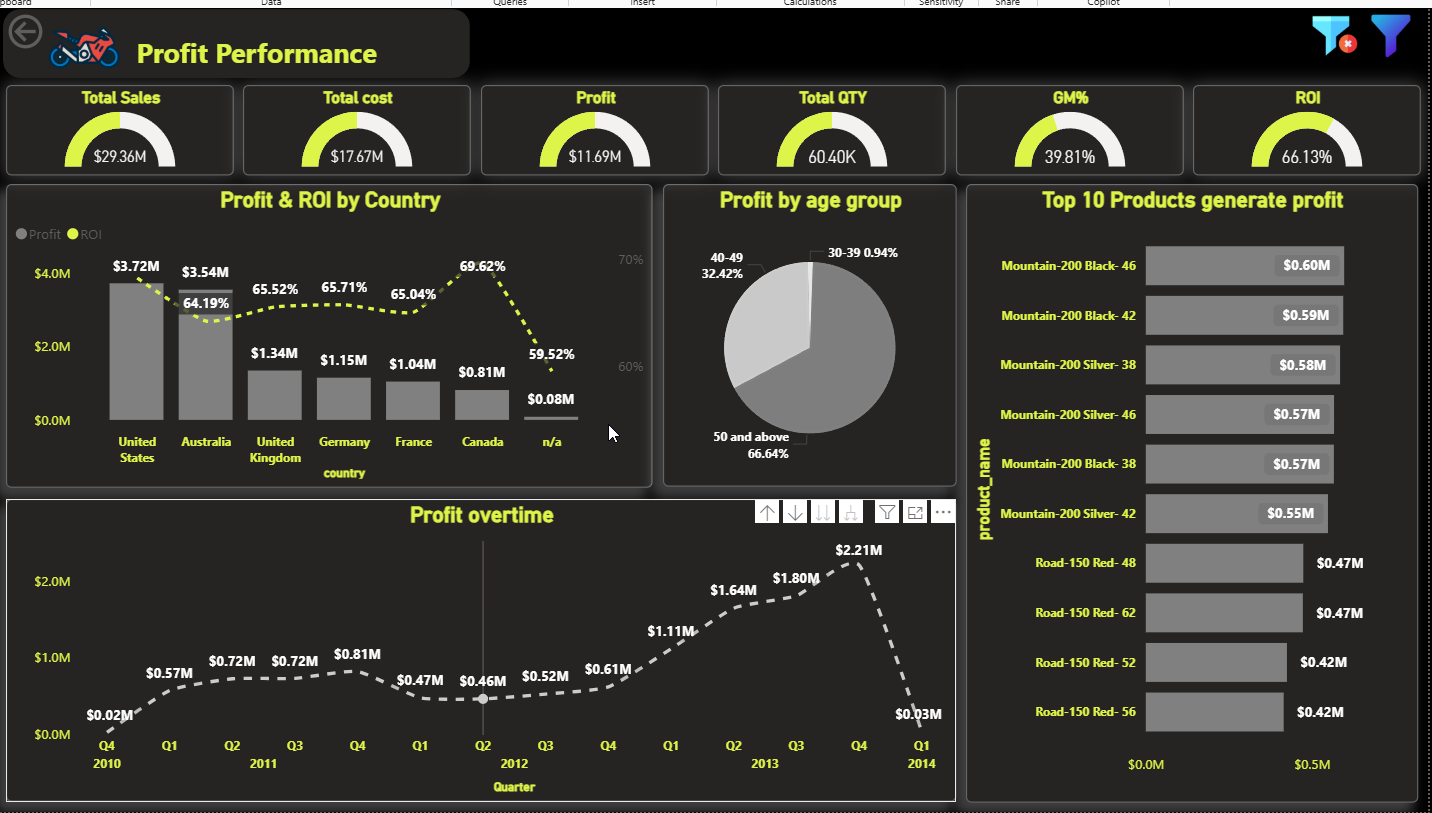

This screenshot's page, from the dashboard's own definition file:
{"tool":"powerbi","page":{"name":"Profit Page","canvas":[1280,720],"ordinal":3},"visuals":[{"type":"clusteredBarChart","title":"Top 10 Products generate profit","fields":{"Category":["gold report_products.product_name"],"Y":["CALC.Profit"]},"box":[867,157.2,404.8,553.7],"z":0},{"type":"lineStackedColumnComboChart","title":"Profit & ROI by Country","fields":{"Category":["gold report_customers.country"],"Y2":["CALC.ROI"],"Y":["CALC.Profit"]},"box":[6.8,157.2,579.4,272.2],"z":1000},{"type":"pieChart","title":"Profit by age group","fields":{"Category":["gold report_customers.age_group"],"Y":["CALC.Profit"]},"box":[595.3,157.2,263,271.2],"z":2000},{"type":"gauge","fields":{"Y":["CALC.Total Sales"]},"box":[7.2,69,204.2,81.5],"z":3000},{"type":"shape","box":[4.5,0.9,418.4,61.8],"z":4000,"group":"g1"},{"type":"gauge","fields":{"Y":["CALC.Total cost"]},"box":[219.8,69,204.2,81.5],"z":4000},{"type":"image","box":[24.5,0,104.1,77],"z":5000,"group":"g1"},{"type":"gauge","fields":{"Y":["CALC.Profit"]},"box":[432.4,69,204.2,81.5],"z":5000},{"type":"gauge","fields":{"Y":["CALC.Total QTY"]},"box":[645,69,204.2,81.5],"z":6000},{"type":"textbox","box":[119,17.5,236.3,47.3],"z":6500,"group":"g1"},{"type":"gauge","title":"GM%","fields":{"Y":["CALC.Gross margin"]},"box":[857.6,69,204.2,81.5],"z":7000},{"type":"gauge","fields":{"Y":["CALC.ROI"]},"box":[1070.1,69,204.2,81.5],"z":8000},{"type":"image","box":[1172.2,0,50.1,50.1],"z":9000},{"type":"image","box":[1222.4,0,50.1,50.1],"z":10000},{"type":"group","id":"g1","title":"Group 3","box":[4.5,0,418.4,77],"z":15000},{"type":"lineChart","title":"Profit overtime","fields":{"Y":["CALC.Profit"],"Category":["CalendarTable.Year","CalendarTable.Quarter"]},"box":[7.2,439.7,850.6,271.2],"z":16000},{"type":"actionButton","box":[4.5,0.9,43.9,40.3],"z":18000,"group":"g1"}]}

Visuals, with their boxes on the page's 1280x720 design canvas (x1, y1, x2, y2). These are canvas units, not pixel positions in the 1432x813 screenshot, which may show the page scaled, cropped or inside an application window:
"Top 10 Products generate profit" clusteredBarChart: {"left": 867, "top": 157, "right": 1272, "bottom": 711}
"Profit & ROI by Country" lineStackedColumnComboChart: {"left": 7, "top": 157, "right": 586, "bottom": 429}
"Profit by age group" pieChart: {"left": 595, "top": 157, "right": 858, "bottom": 428}
gauge - CALC.Total Sales: {"left": 7, "top": 69, "right": 211, "bottom": 150}
shape: {"left": 4, "top": 1, "right": 423, "bottom": 63}
gauge - CALC.Total cost: {"left": 220, "top": 69, "right": 424, "bottom": 150}
image: {"left": 24, "top": 0, "right": 129, "bottom": 77}
gauge - CALC.Profit: {"left": 432, "top": 69, "right": 637, "bottom": 150}
gauge - CALC.Total QTY: {"left": 645, "top": 69, "right": 849, "bottom": 150}
textbox: {"left": 119, "top": 18, "right": 355, "bottom": 65}
"GM%" gauge: {"left": 858, "top": 69, "right": 1062, "bottom": 150}
gauge - CALC.ROI: {"left": 1070, "top": 69, "right": 1274, "bottom": 150}
image: {"left": 1172, "top": 0, "right": 1222, "bottom": 50}
image: {"left": 1222, "top": 0, "right": 1272, "bottom": 50}
"Group 3" group: {"left": 4, "top": 0, "right": 423, "bottom": 77}
"Profit overtime" lineChart: {"left": 7, "top": 440, "right": 858, "bottom": 711}
actionButton: {"left": 4, "top": 1, "right": 48, "bottom": 41}
